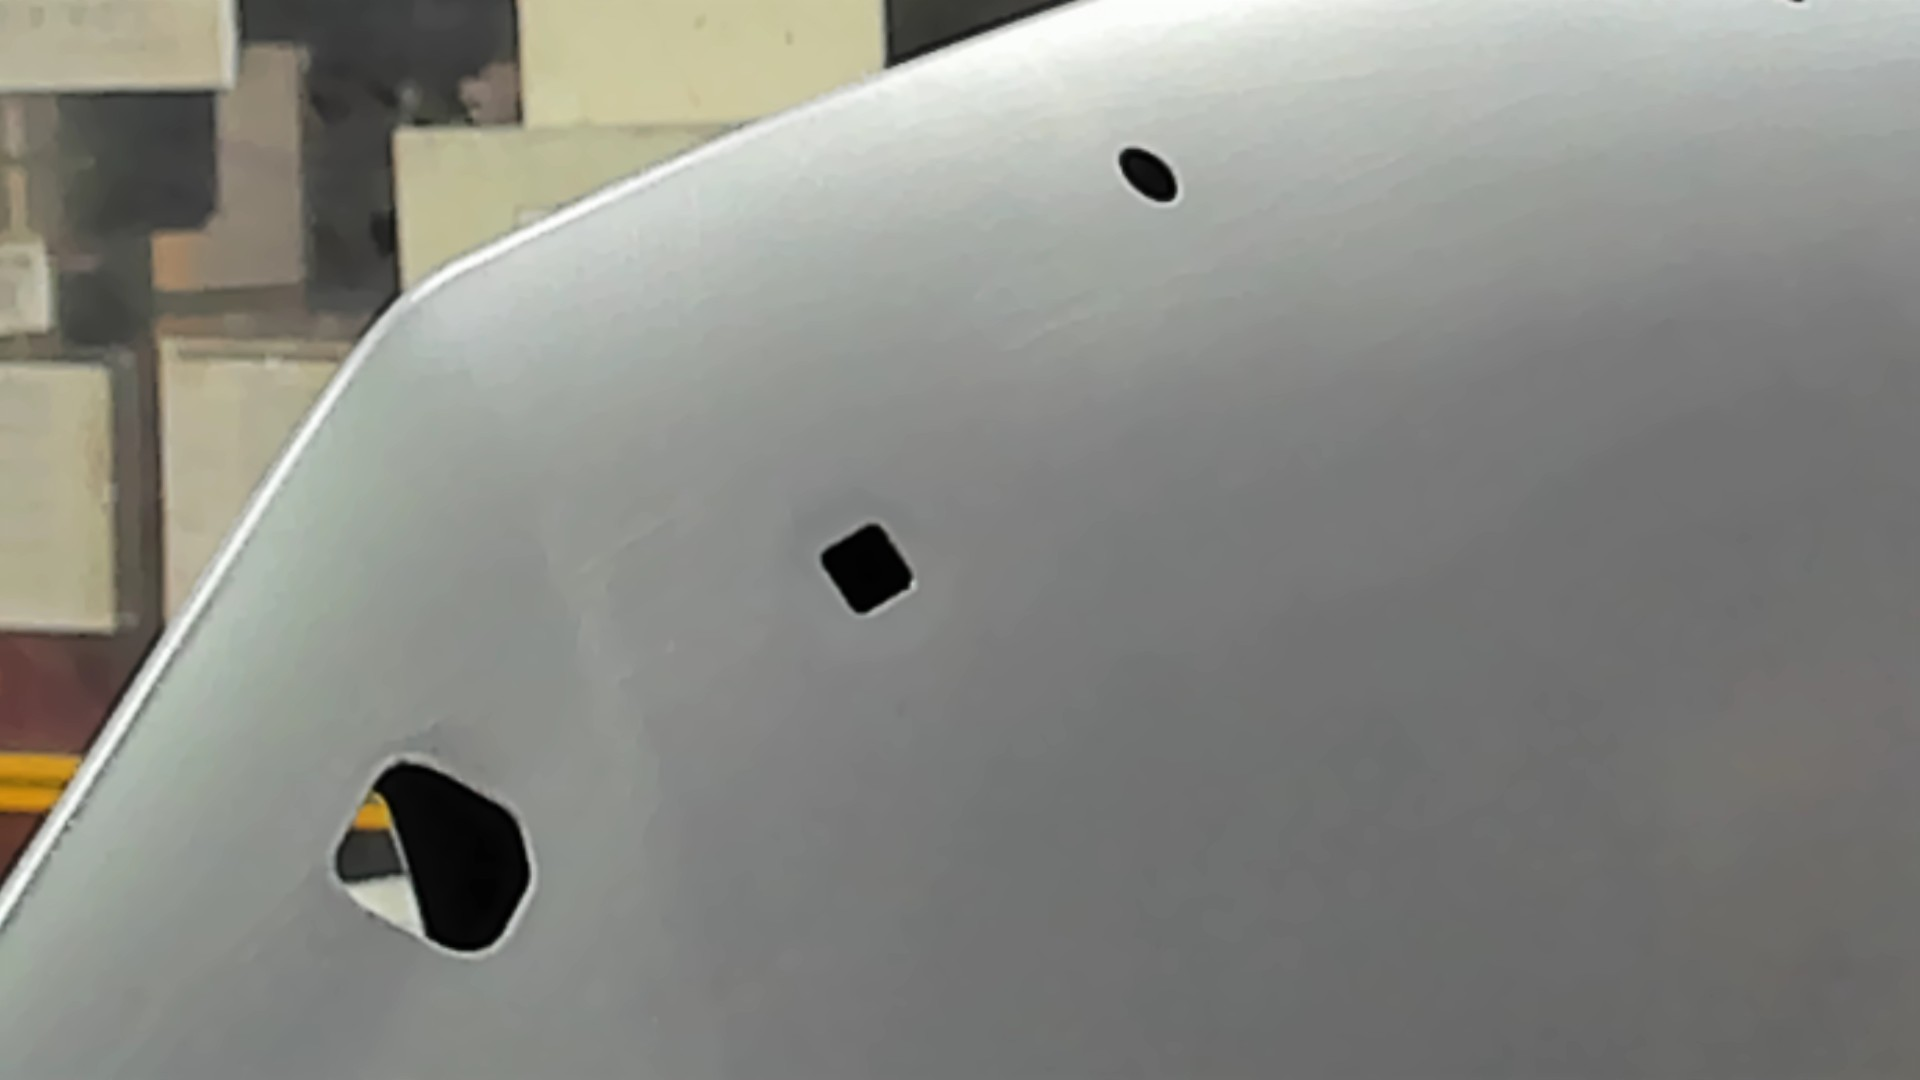chico: (1110, 140, 1183, 208)
grande: (319, 746, 543, 967)
mediano: (807, 512, 924, 621)
